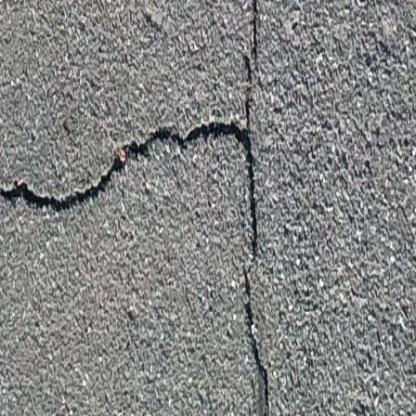Cracks: (209, 0, 315, 416), (0, 116, 300, 220)
